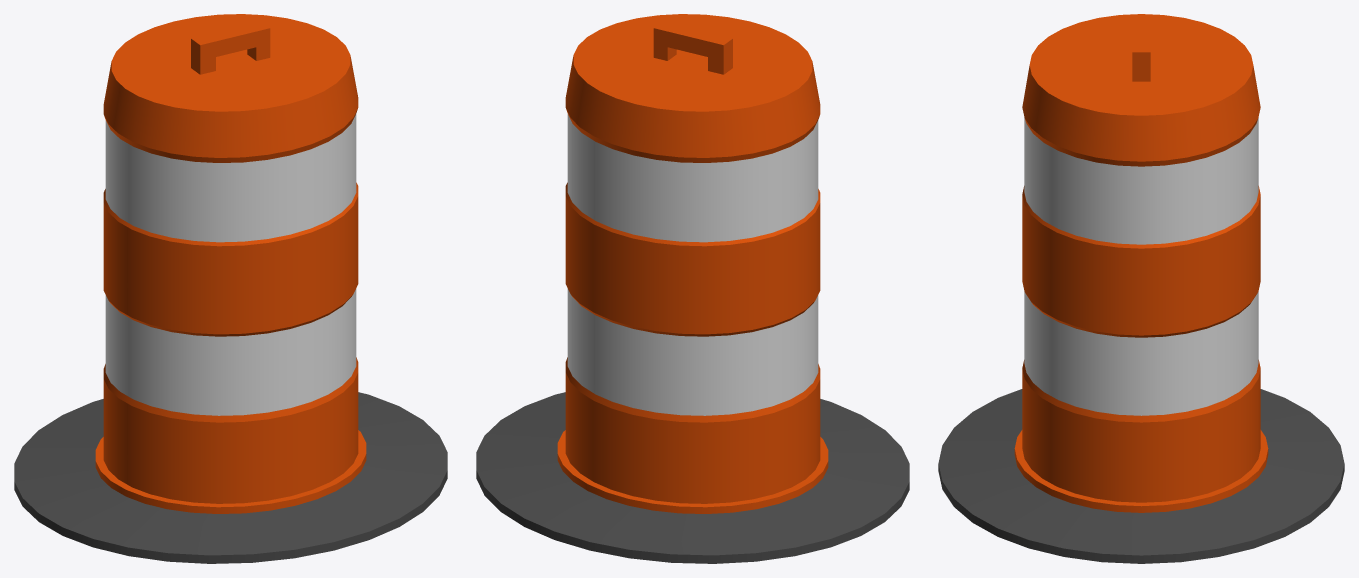
The model's file is Drum (new version).fbx.
3 views of the same model, side by side, from view 1: azimuth 30°, elevation 25°; view 2: azimuth 150°, elevation 25°; view 3: azimuth 270°, elevation 25° (orthographic).
Visible parts, largest first — view 1: Cylinder; view 2: Cylinder; view 3: Cylinder.
Part boxes in pixels (bbox=[...]): Cylinder: bbox=[14, 14, 447, 563]; Cylinder: bbox=[476, 14, 909, 563]; Cylinder: bbox=[938, 14, 1344, 563].
Size of the model in its own units: 96.57 by 106 by 89.68.
